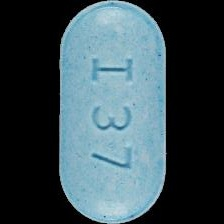63187-667: (0, 0, 224, 224)
